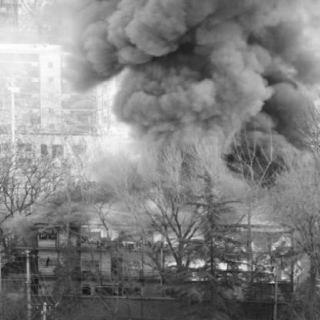Fire: (82, 197, 308, 284)
Smoke: (73, 0, 304, 178)
